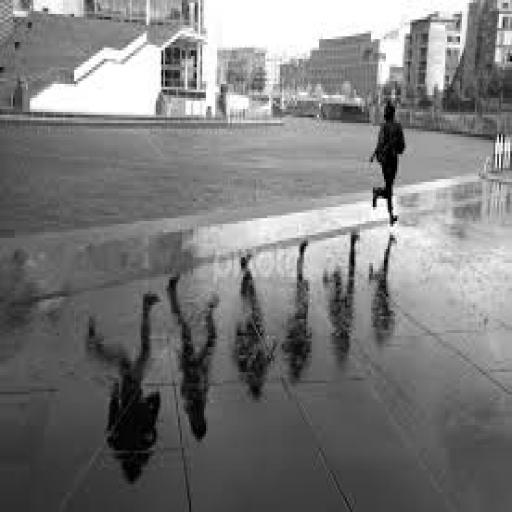running: (367, 95, 410, 230)
